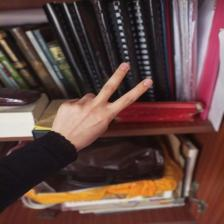two: (40, 56, 171, 173)
